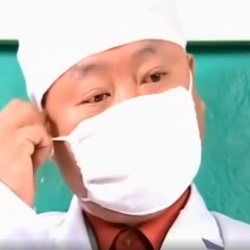mask: (59, 84, 204, 215)
